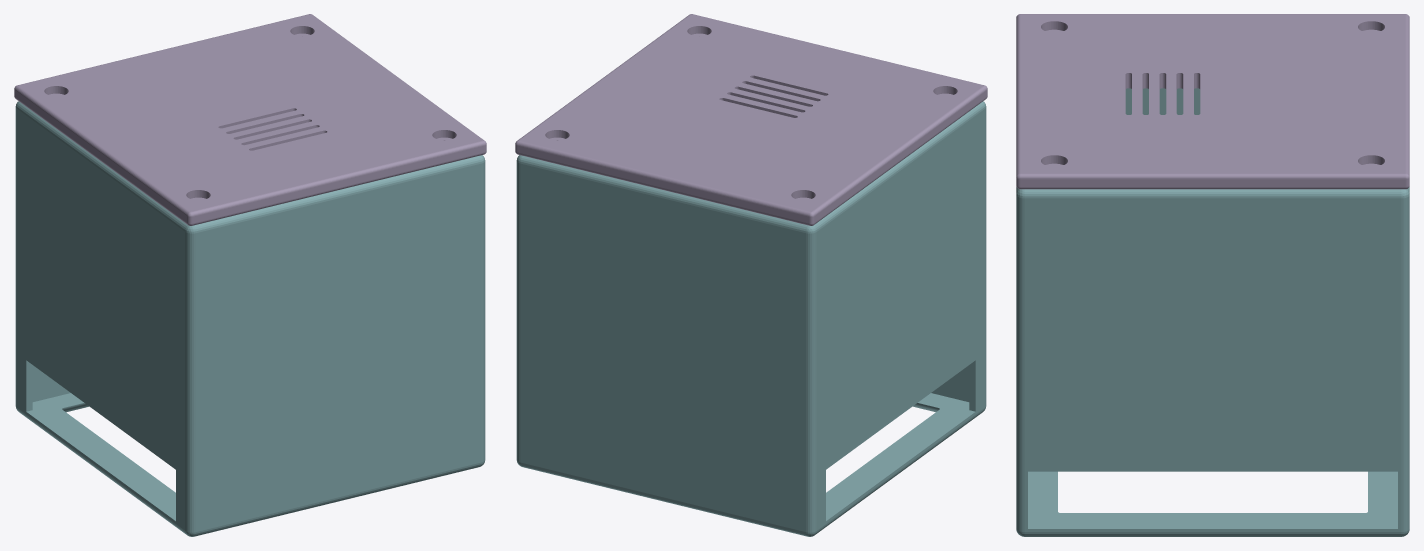
Rendered from assembly.glb.
3 views of the same model, side by side, from view 1: azimuth 30°, elevation 25°; view 2: azimuth 150°, elevation 25°; view 3: azimuth 270°, elevation 25° (orthographic). The views are drawn at different scales.
Parts seen in each view (by area): view 1: shell, lid; view 2: shell, lid; view 3: shell, lid.
Part boxes in pixels (box(x1,y1,x2,y2)): shell: box(15, 101, 485, 536); lid: box(14, 14, 486, 225); shell: box(516, 101, 986, 536); lid: box(515, 14, 987, 225); shell: box(1016, 88, 1409, 536); lid: box(1016, 14, 1409, 189).
Size of the model in its own units: 90.5 by 94.5 by 92.5.
